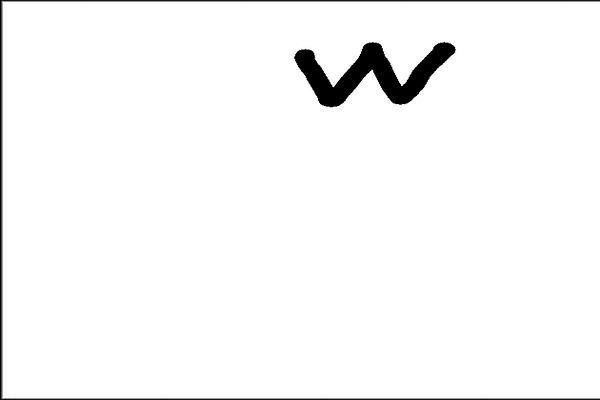w: (285, 25, 465, 126)
